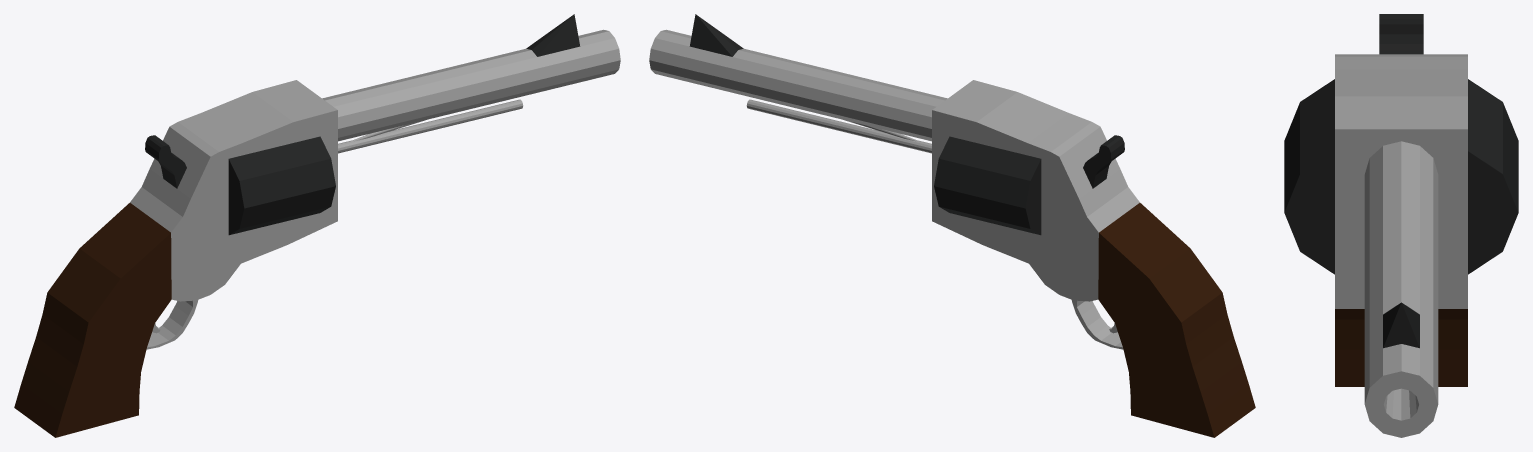
File: revolver.obj
3 renders of one model, left to right at view 1: azimuth 30°, elevation 25°; view 2: azimuth 150°, elevation 25°; view 3: azimuth 270°, elevation 25°, orthographic. The views are drawn at different scales.
Parts seen in each view (by area): view 1: revolver_Cylinder.001; view 2: revolver_Cylinder.001; view 3: revolver_Cylinder.001.
Boxes of the visible parts, x1,y1,x2,y2 form: revolver_Cylinder.001: (14, 14, 620, 437); revolver_Cylinder.001: (649, 14, 1255, 437); revolver_Cylinder.001: (1284, 14, 1518, 437).
Size of the model in its own units: 0.3226 by 0.1487 by 0.0706.
